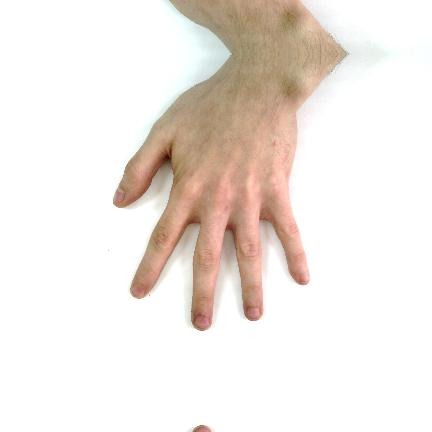Nail: (194, 317, 210, 331), (113, 187, 125, 205), (131, 284, 146, 298), (246, 308, 261, 321), (194, 425, 210, 432), (300, 273, 310, 283)
